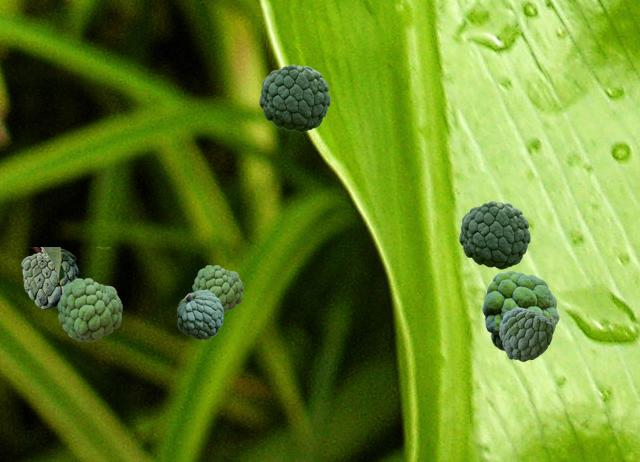atis: (482, 270, 558, 351), (21, 247, 108, 308), (459, 201, 529, 268), (259, 64, 329, 131), (57, 278, 121, 340), (499, 307, 552, 360), (192, 265, 242, 313), (177, 290, 222, 338)
